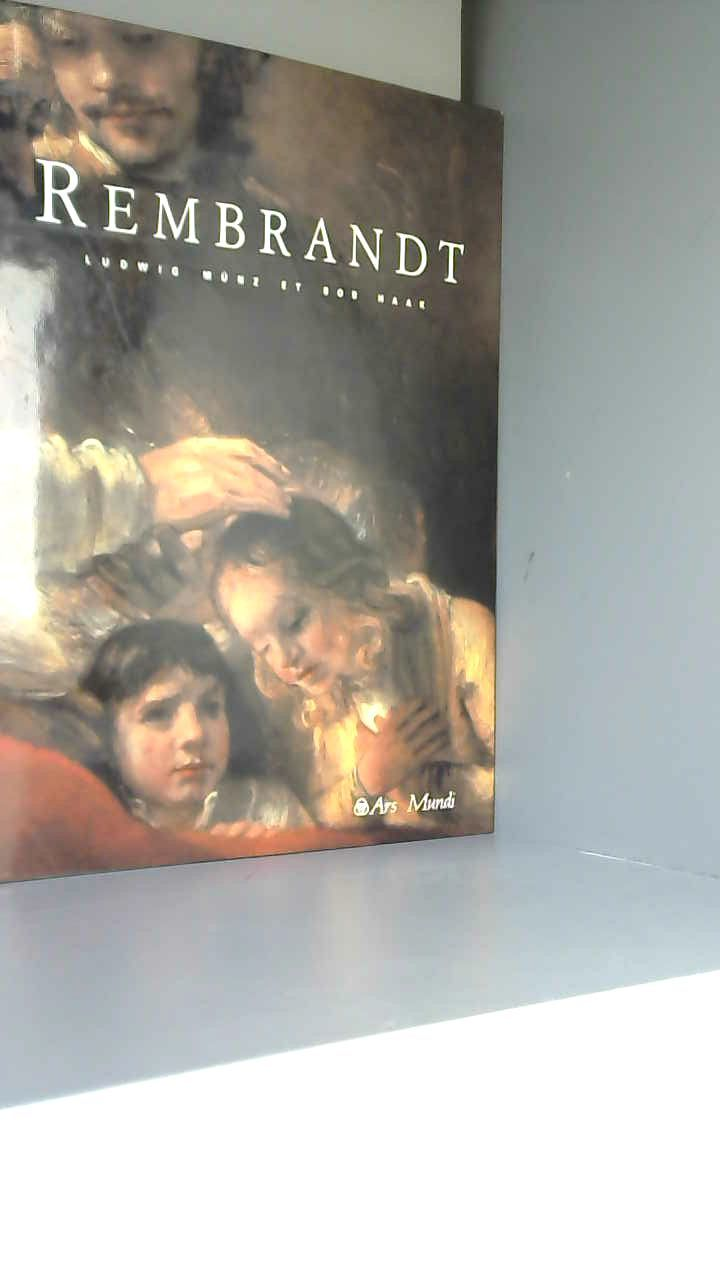book: (0, 0, 543, 910)
